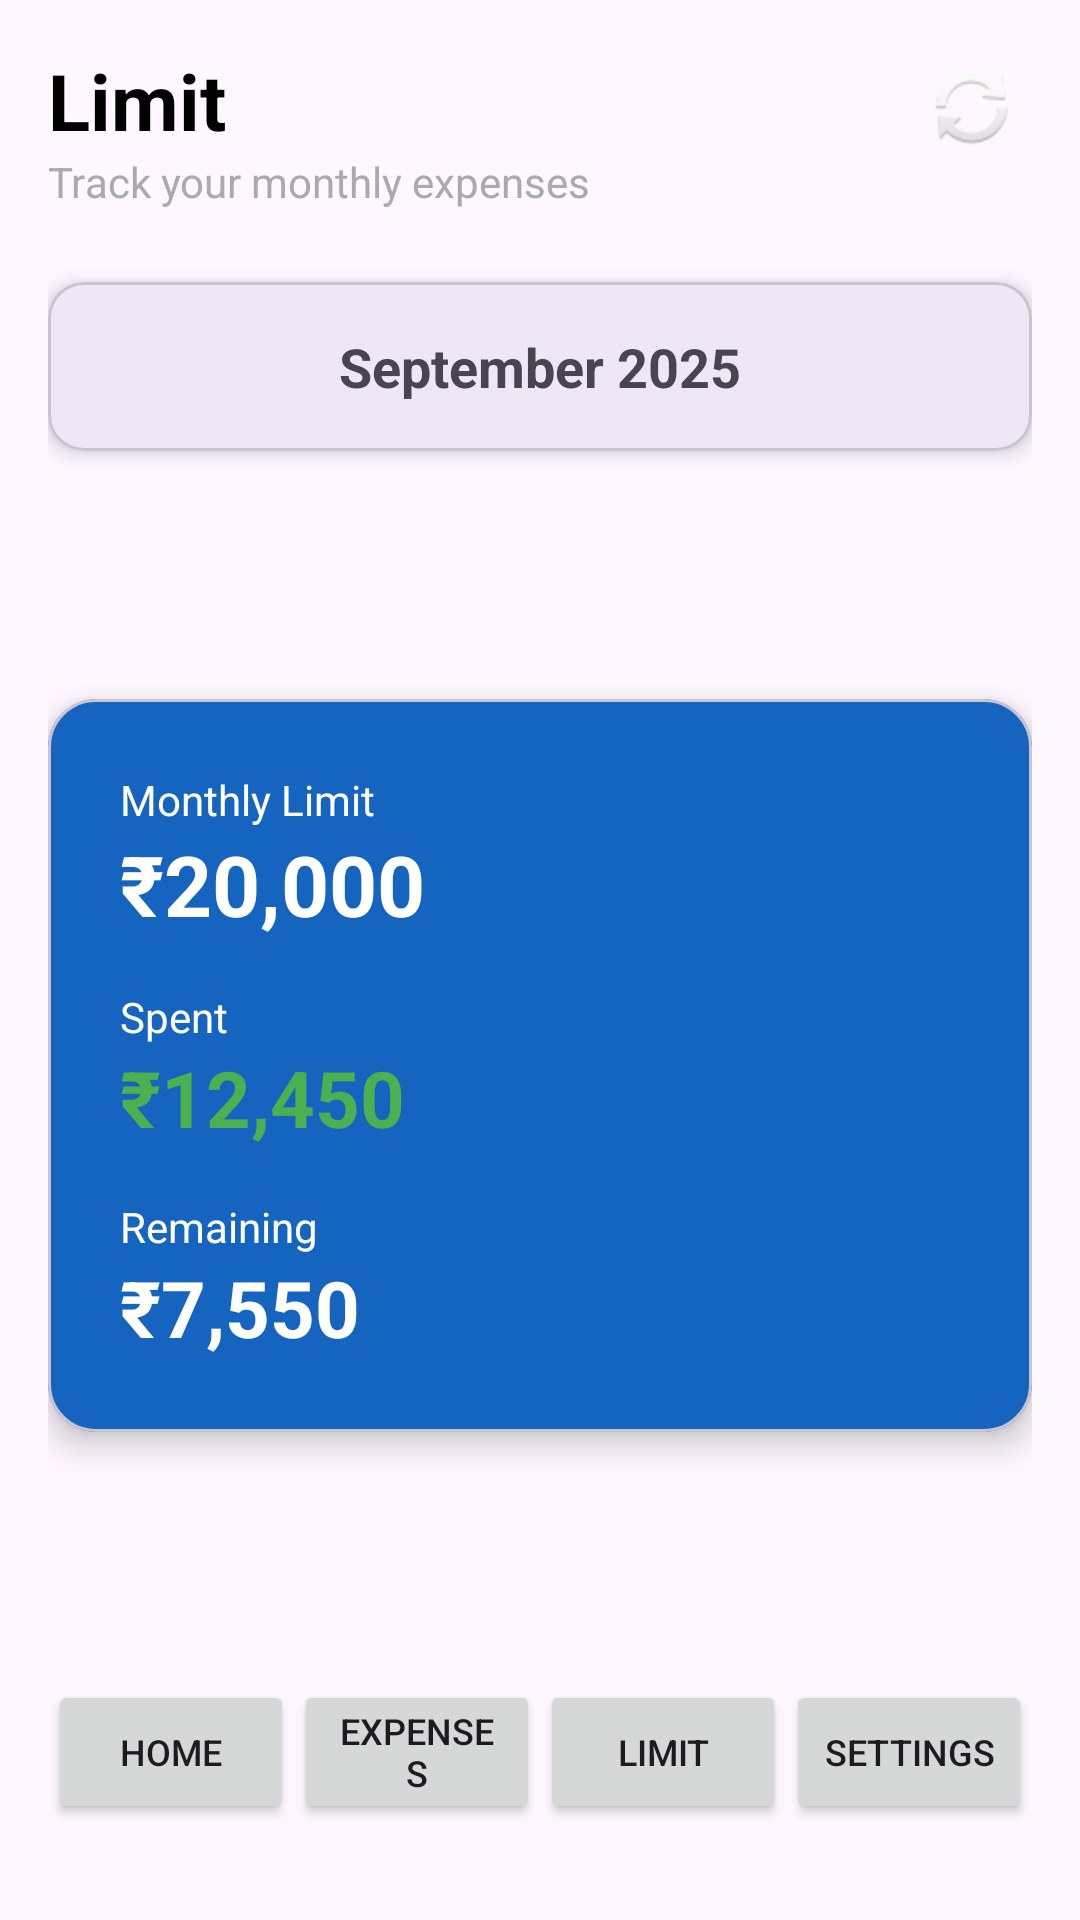

Screen size 1080×1920. Icon name, then its center in pixels as [x,y]:
Refresh: [971,112]
